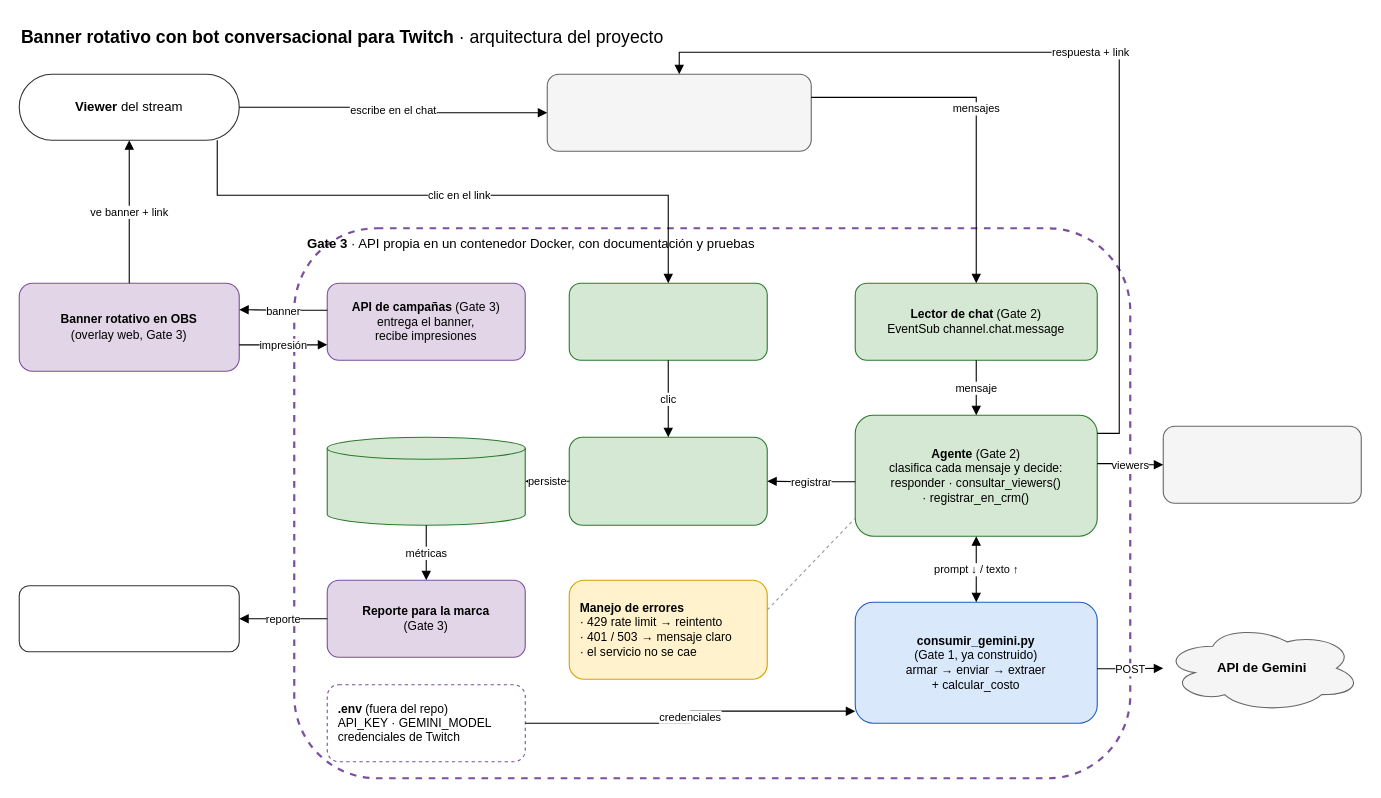
Some shapes in this 1381 by 798 pixel diagram are drawn without their labels. Each missing label, with the box of its shape:
API Helix de Twitch viewers en vivo: (1162, 425, 1361, 503)
Base de datos (Gate 2) viewers, interacciones, clics: (326, 436, 525, 525)
Chat de Twitch: (546, 73, 811, 151)
CRM (Gate 2) registrar_en_crm(): (568, 436, 767, 525)
Links medibles (Gate 2) /r/{code} registra cada clic: (568, 282, 767, 360)
Marca mide el impacto de su campaña: (18, 585, 239, 652)
